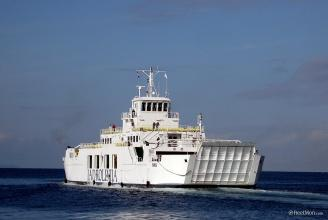warship: (47, 76, 267, 188)
